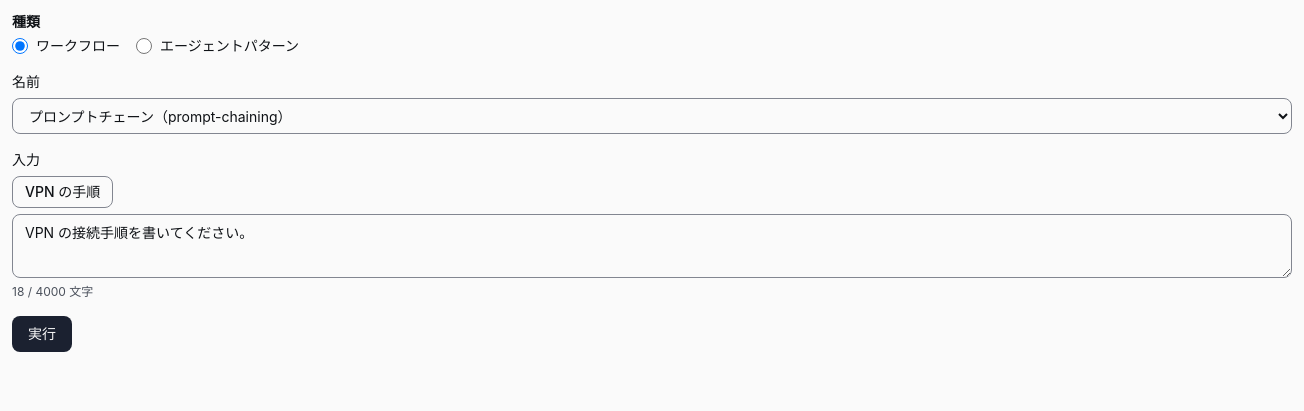
Test: WorkflowPanel abort › offers an abort button only while running, and abort cancels the request
Expected: the button "中断" is not shown
Click the button "実行": {"x": 42, "y": 334} [12,316,72,352]
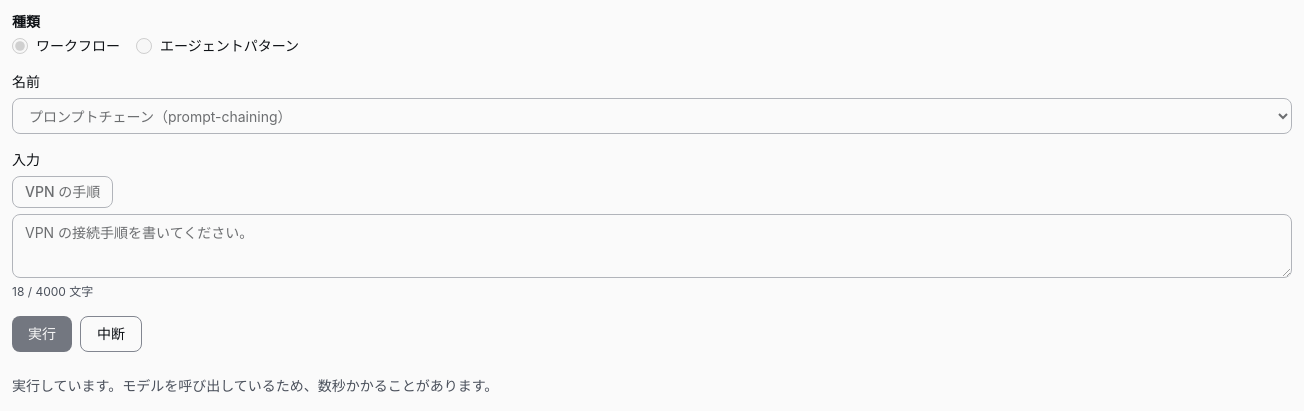
Click the button "中断": {"x": 111, "y": 334} [80,316,142,352]
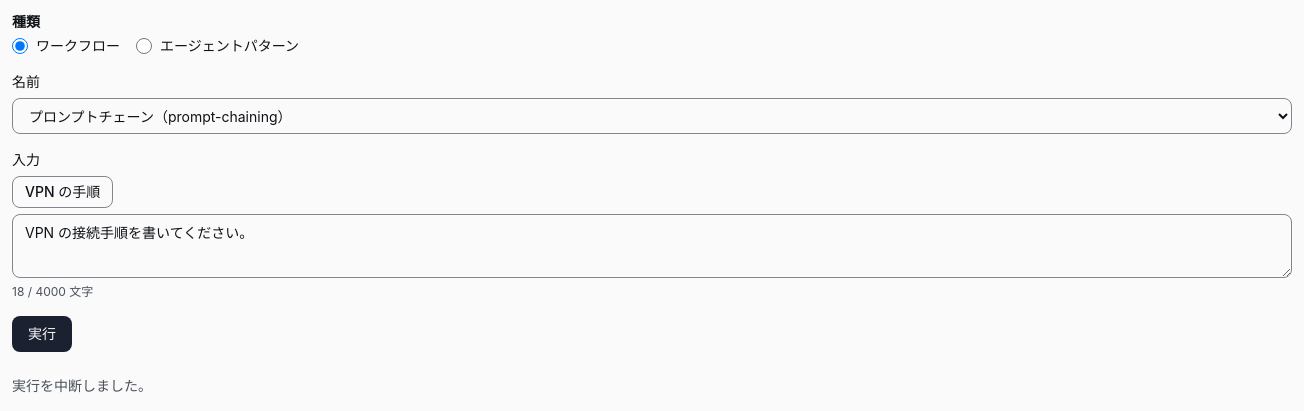
Expected: the text "実行を中断しました。" is shown, [12,377,152,394]
Expected: the button "実行" is enabled, [12,316,72,352]
